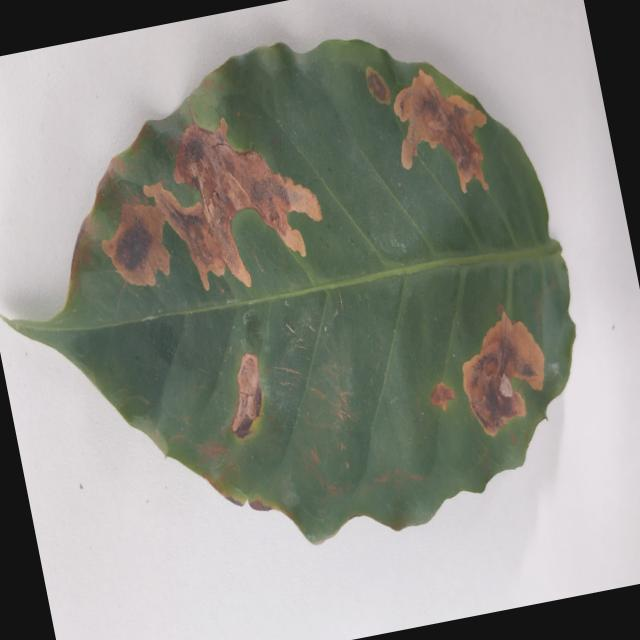KaratDaunKopi: (145, 118, 322, 290), (394, 70, 488, 192), (463, 311, 544, 435), (102, 204, 170, 285), (231, 353, 262, 438), (366, 66, 391, 104), (431, 382, 455, 411)
